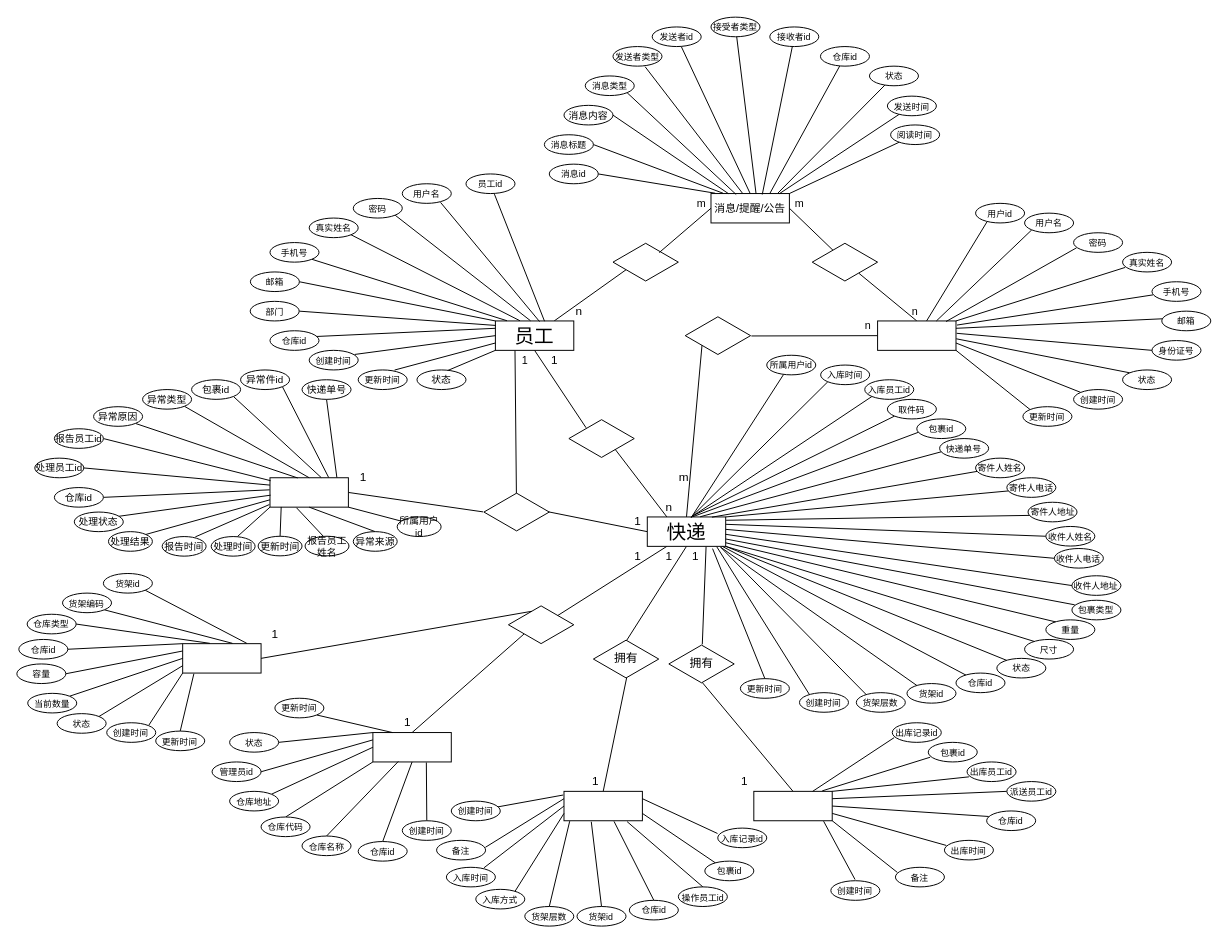
The diagram is 1229 pixels wide and 944 high, and some of its shapes have lost their labels. Each missing label, with the box of its shape:
仓库: (372, 732, 451, 762)
位于: (507, 604, 574, 644)
入库: (568, 418, 634, 458)
入库记录: (563, 790, 642, 821)
出库: (684, 315, 751, 355)
出库记录: (753, 790, 832, 821)
发送: (612, 242, 678, 282)
异常件: (269, 477, 348, 507)
接收: (811, 242, 878, 282)
用户: (877, 320, 956, 350)
货架及层数: (182, 643, 261, 673)
转换: (483, 491, 549, 532)
